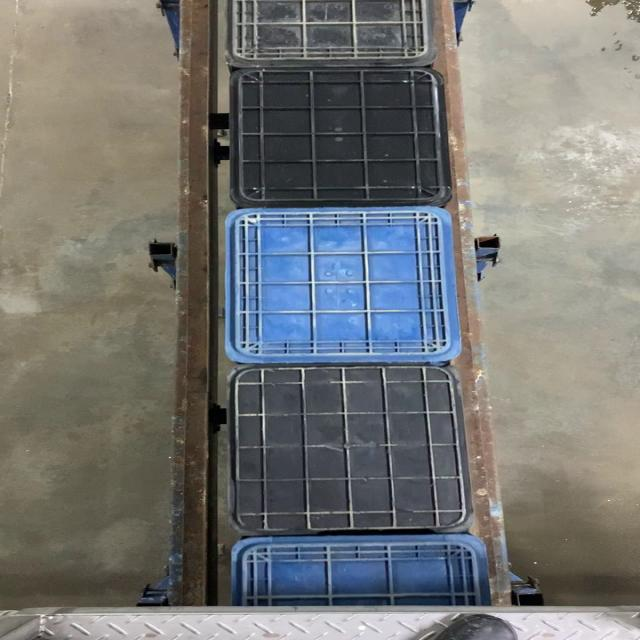Box: (220, 364, 474, 534), (221, 206, 463, 364), (229, 66, 458, 206)
